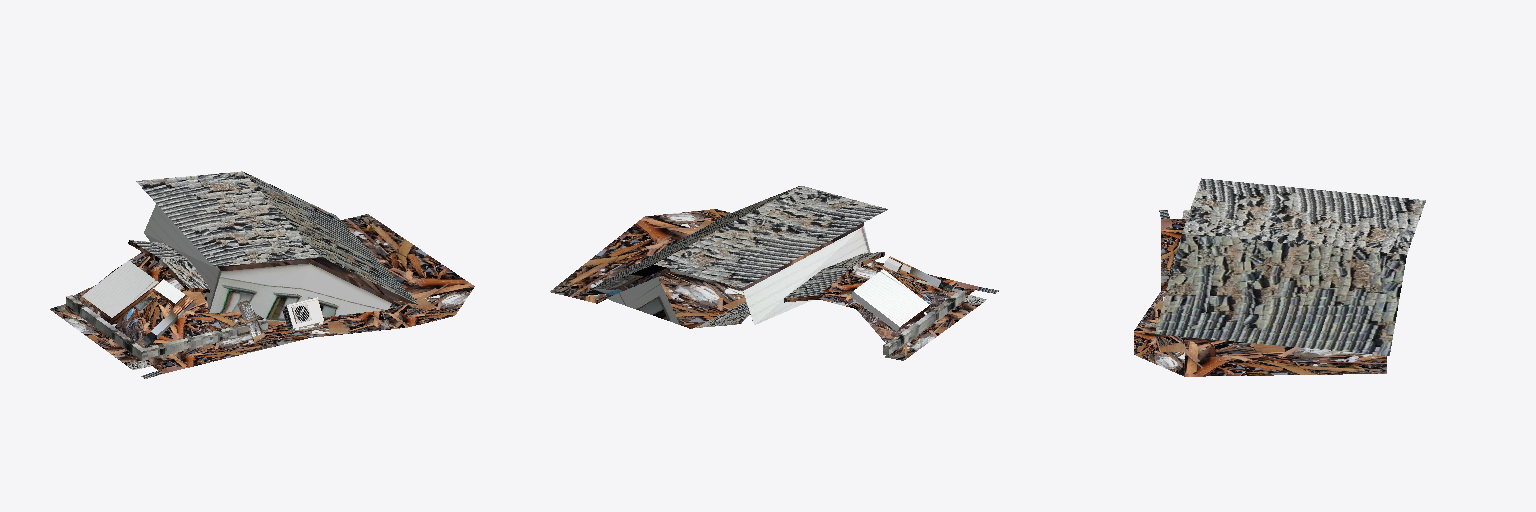
3 views of the same model, side by side, from view 1: azimuth 30°, elevation 25°; view 2: azimuth 150°, elevation 25°; view 3: azimuth 270°, elevation 25° (orthographic).
Visible parts, largest first — view 1: Plane.006_Plane.007, Plane.003_Plane.004, Plane.002_Plane.003, Plane_Plane.001, Plane.004_Plane.005, Plane.001_Plane.002, Cube.001_Cube.000; view 2: Plane.006_Plane.007, Plane.003_Plane.004, Plane.004_Plane.005, Plane.002_Plane.003, Plane_Plane.001, Plane.001_Plane.002; view 3: Plane.006_Plane.007, Plane.003_Plane.004.
Part boxes in pixels (bbox=[...]): Plane.006_Plane.007: bbox=[136, 171, 418, 321]; Plane.003_Plane.004: bbox=[50, 214, 474, 378]; Plane.002_Plane.003: bbox=[73, 252, 263, 347]; Plane_Plane.001: bbox=[66, 295, 267, 360]; Plane.004_Plane.005: bbox=[82, 260, 158, 322]; Plane.001_Plane.002: bbox=[142, 279, 193, 345]; Cube.001_Cube.000: bbox=[282, 297, 323, 331]; Plane.006_Plane.007: bbox=[577, 186, 887, 328]; Plane.003_Plane.004: bbox=[550, 209, 998, 360]; Plane.004_Plane.005: bbox=[851, 269, 929, 331]; Plane.002_Plane.003: bbox=[820, 265, 956, 343]; Plane_Plane.001: bbox=[883, 275, 964, 355]; Plane.001_Plane.002: bbox=[883, 256, 952, 291]; Plane.006_Plane.007: bbox=[1155, 178, 1425, 355]; Plane.003_Plane.004: bbox=[1134, 210, 1386, 376].
Size of the model in its own units: 6.86 by 1.45 by 5.07.
3 materials, 2 textured.